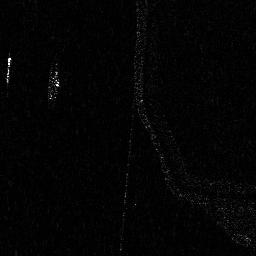ship: (47, 56, 58, 100)
